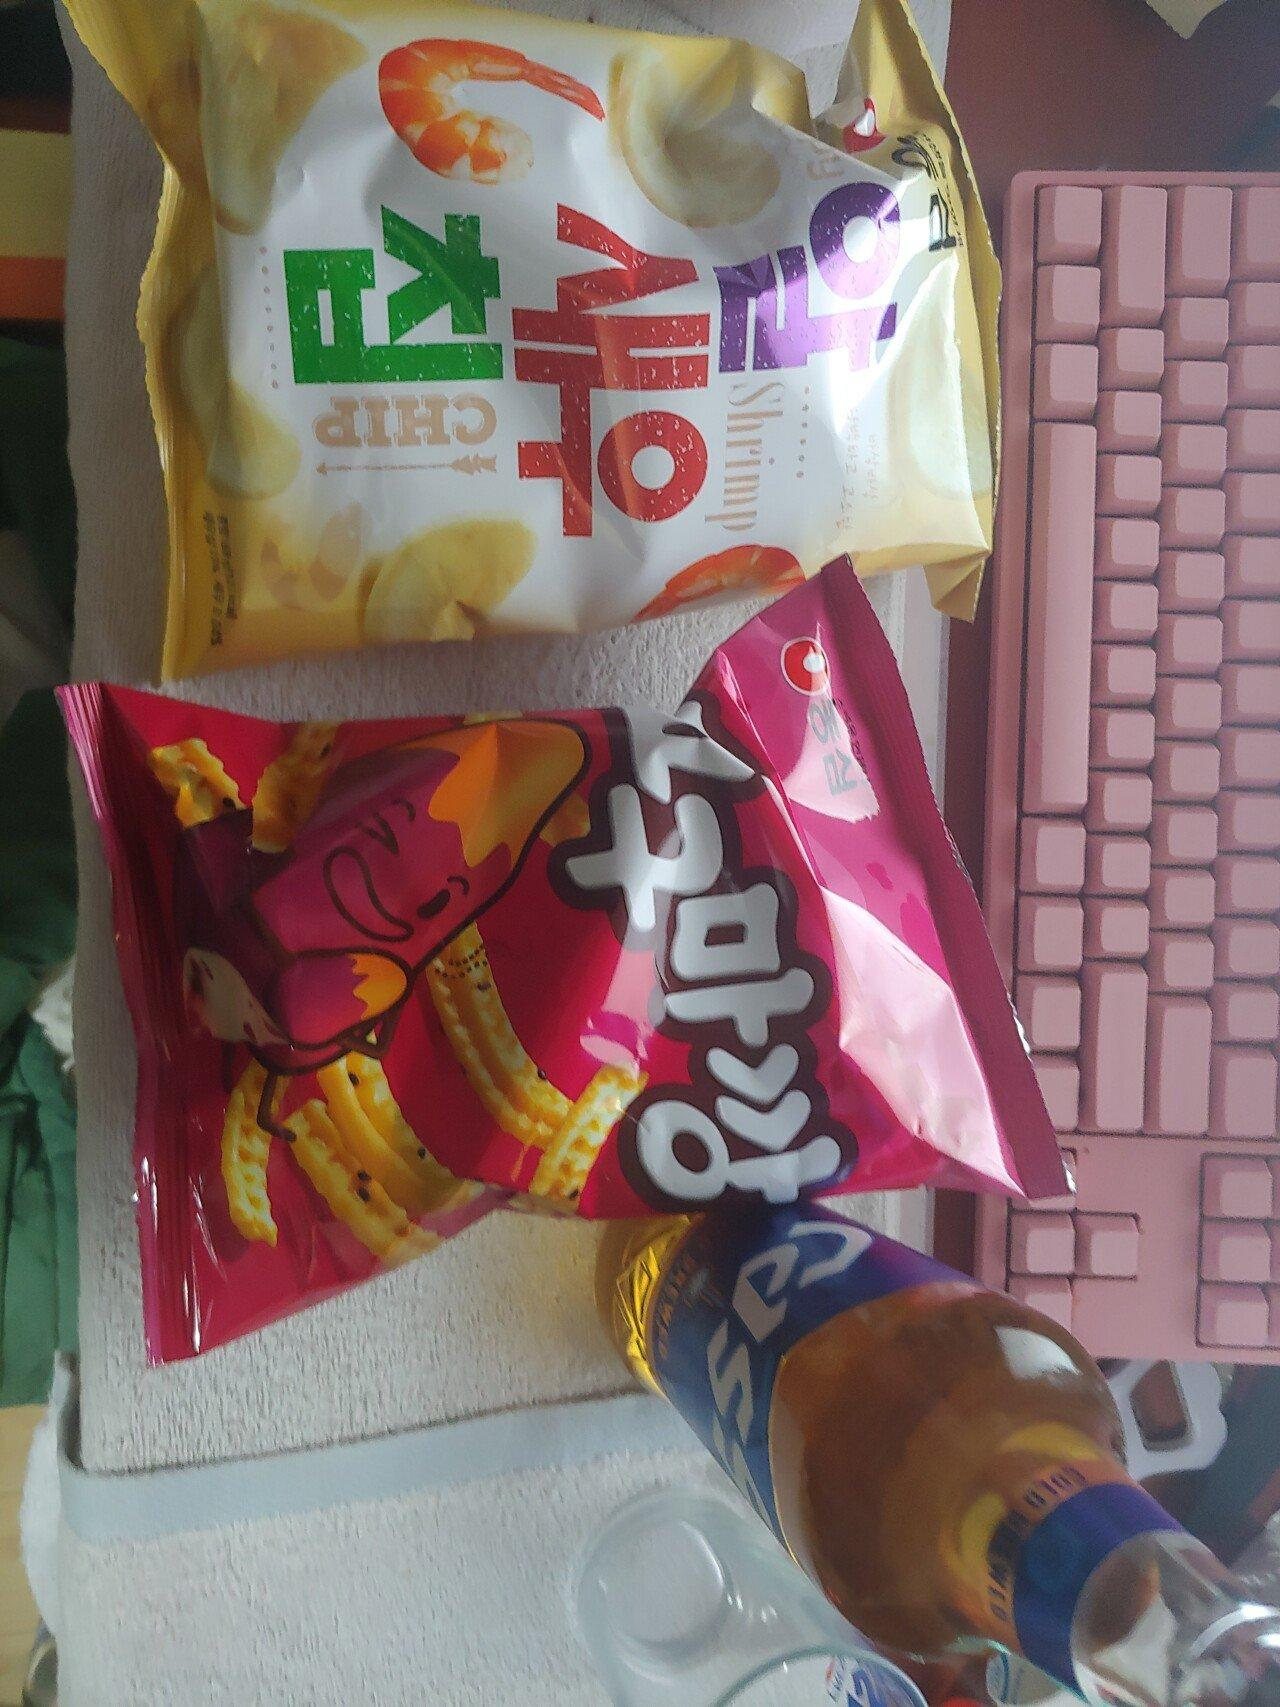snack: (52, 544, 1081, 1366), (63, 0, 1011, 690)
